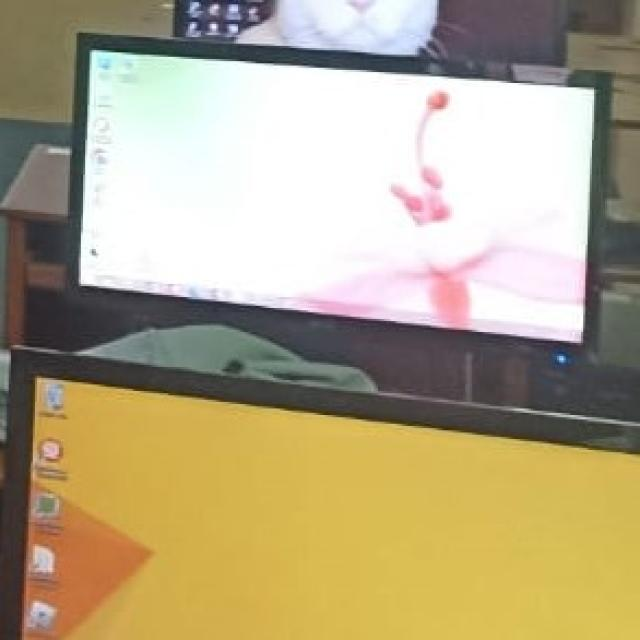onscreen: (3, 350, 640, 640), (81, 49, 592, 342)
